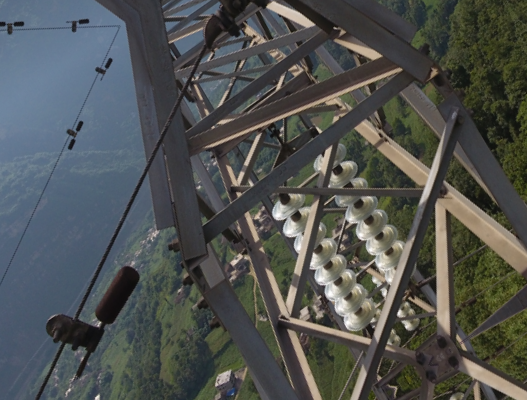damper: (65, 118, 84, 151)
damper_defect: (41, 263, 142, 381), (94, 55, 113, 82), (65, 17, 91, 33)
